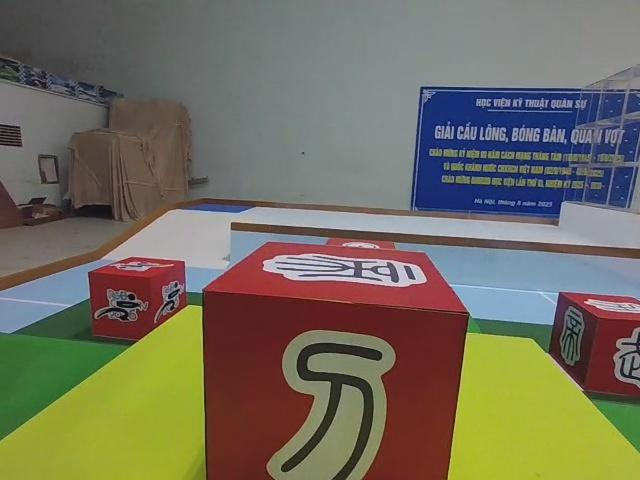R1: (89, 257, 187, 344)
R2 Fake: (203, 240, 470, 480), (550, 291, 639, 403)
